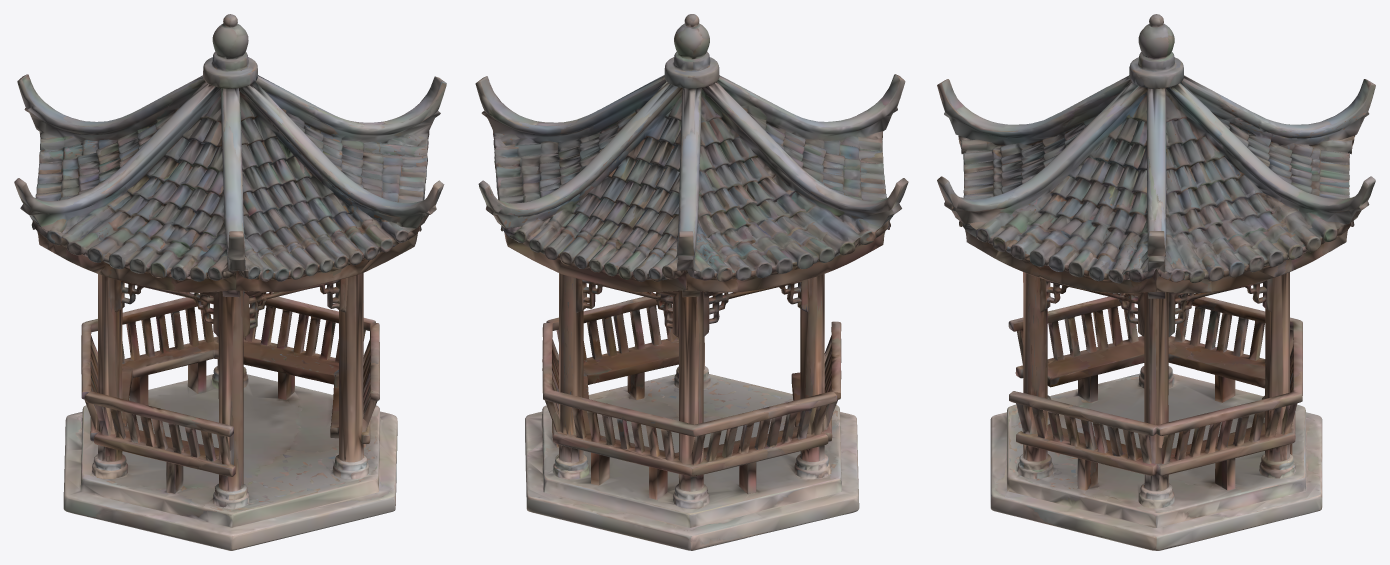
Rendered from LiuJiaoTing.glb.
3 renders of one model, left to right at view 1: azimuth 30°, elevation 25°; view 2: azimuth 150°, elevation 25°; view 3: azimuth 270°, elevation 25°, orthographic.
Visible parts, largest first — view 1: node_0; view 2: node_0; view 3: node_0.
Part boxes in pixels (x1=…): node_0: x1=14, y1=14, x2=446, y2=550; node_0: x1=475, y1=14, x2=908, y2=550; node_0: x1=937, y1=14, x2=1375, y2=550.
Bounding box in the file's own units: 0.9345 × 0.9581 × 0.8353.
1 material, 1 textured.
